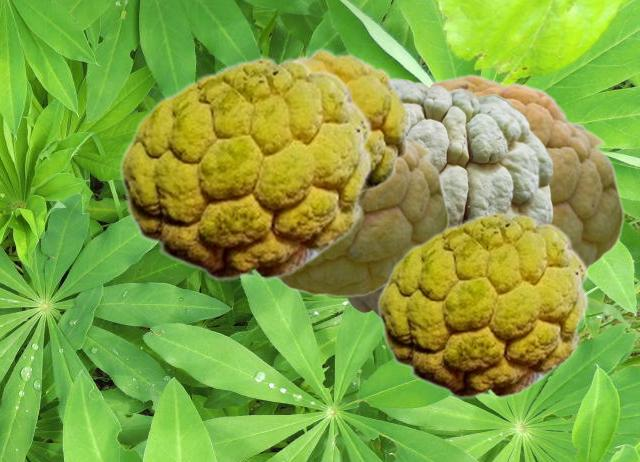atis: (118, 56, 372, 280), (346, 78, 552, 317), (376, 211, 588, 398), (428, 73, 623, 269), (277, 135, 448, 296), (294, 48, 411, 194)
